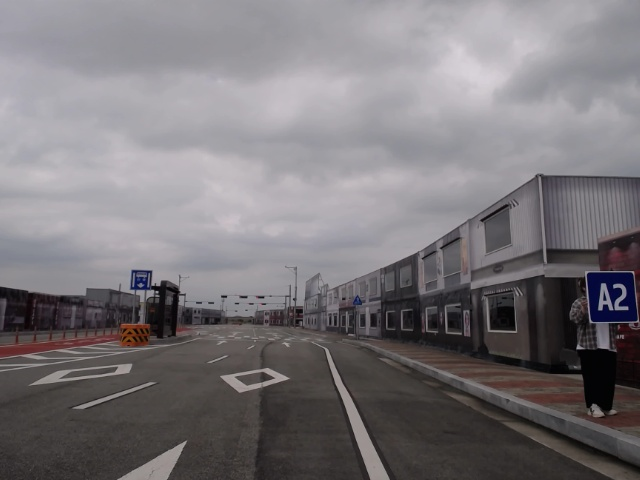delivery_a2: (585, 271, 639, 324)
